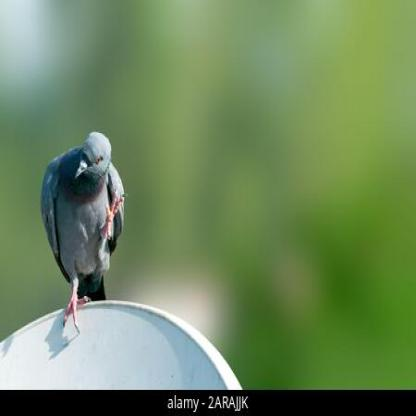Rock Pigeon: (25, 126, 127, 305)
